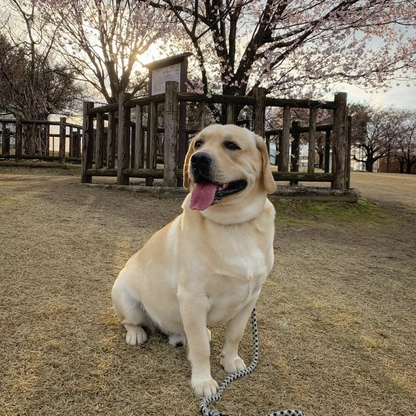labrado: (108, 120, 279, 403)
